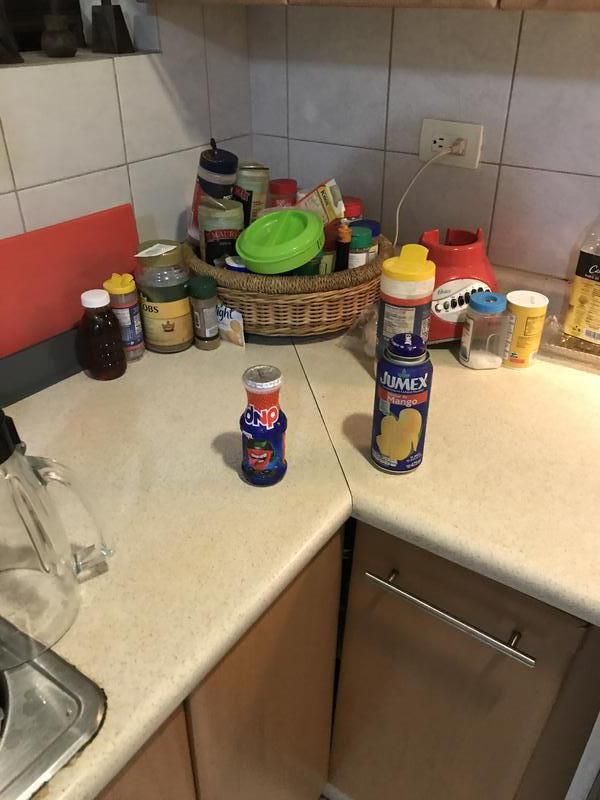danup: (237, 363, 290, 487)
jugo_jumex: (369, 334, 435, 475)
